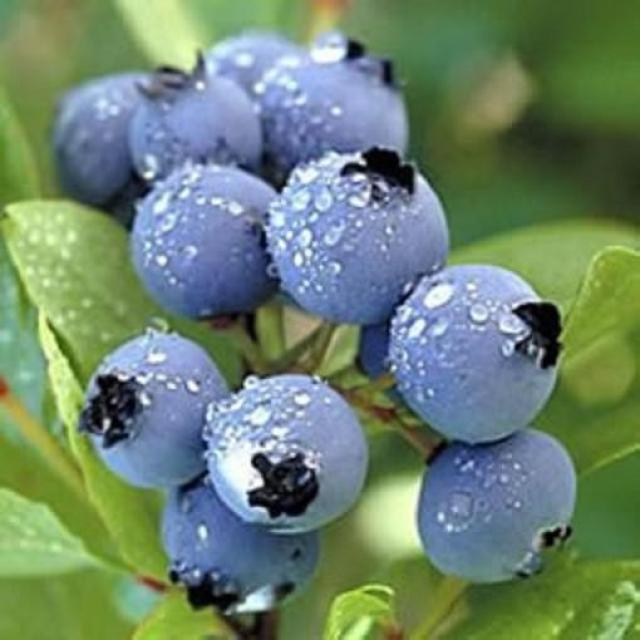BlueBerry - v1: (369, 243, 568, 452), (260, 135, 462, 329), (408, 418, 592, 593), (201, 365, 384, 540), (119, 148, 296, 324), (248, 29, 426, 204), (73, 324, 247, 497), (150, 472, 328, 624), (119, 48, 281, 187), (43, 60, 162, 211), (185, 15, 314, 105)
